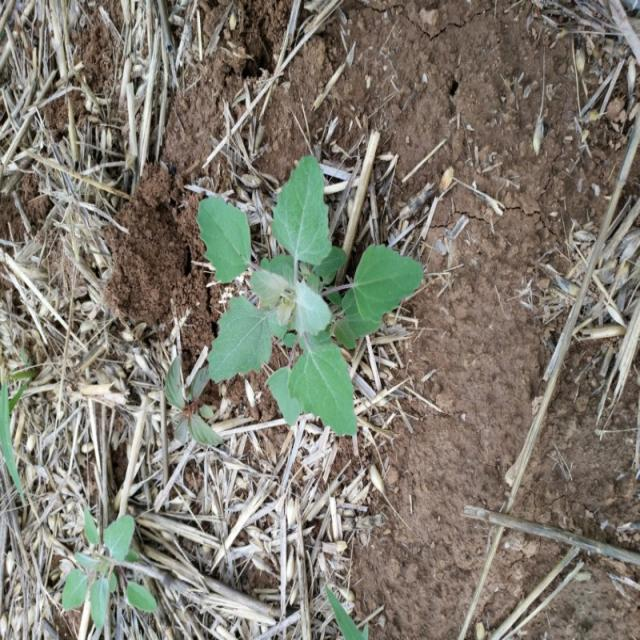goosefoots: (190, 182, 421, 438)
